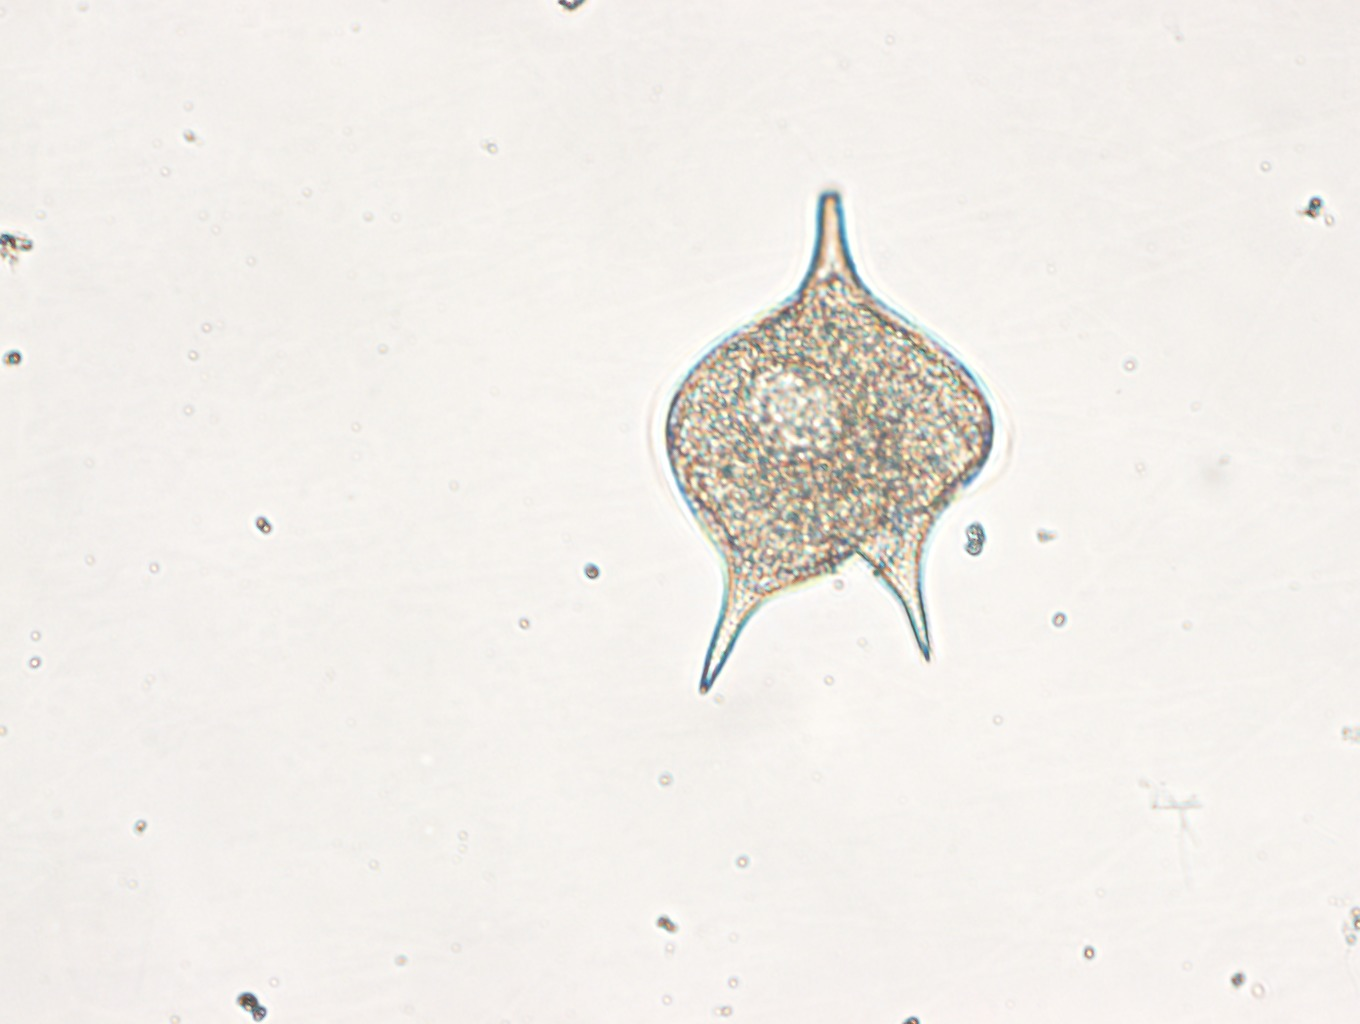protoperidinium: (644, 185, 1000, 703)
